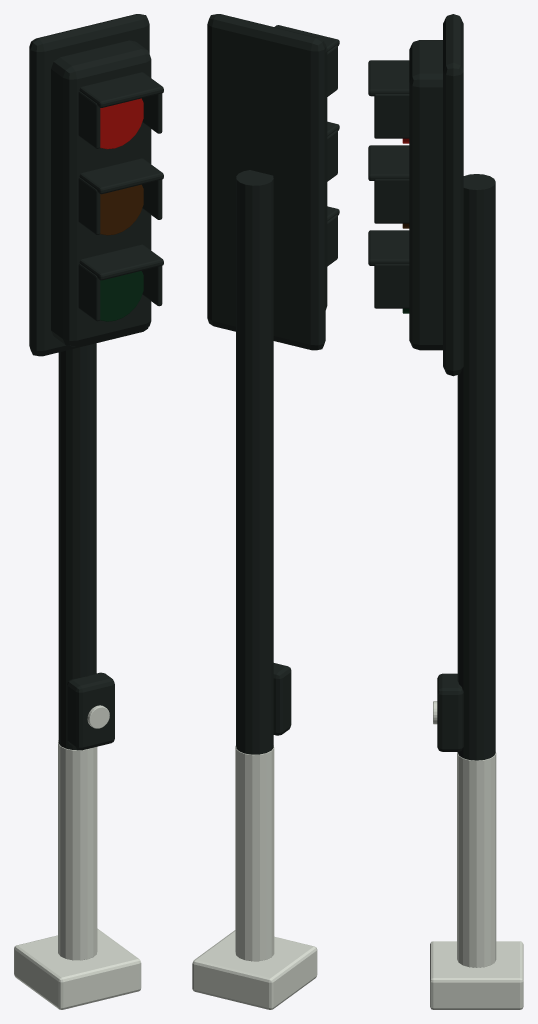
3 views of the same model, side by side, from view 1: azimuth 30°, elevation 25°; view 2: azimuth 150°, elevation 25°; view 3: azimuth 270°, elevation 25° (orthographic).
Parts seen in each view (by area): view 1: VEHICLE_Housing, POLE_Main, VEHICLE_Backplate, POLE_PaleLower, BASE_Footing, BUTTON_Housing, VEHICLE_VisorTop, VEHICLE_VisorTop.001, VEHICLE_VisorTop.002, VEHICLE_Lens_2, VEHICLE_Lens_1, VEHICLE_Lens_0 (+7 smaller); view 2: VEHICLE_Backplate, POLE_Main, POLE_PaleLower, BASE_Footing, BUTTON_Housing, VEHICLE_Housing, VEHICLE_VisorSide, VEHICLE_VisorSide.002, VEHICLE_VisorSide.004; view 3: POLE_Main, VEHICLE_Housing, POLE_PaleLower, VEHICLE_Backplate, BASE_Footing, BUTTON_Housing, VEHICLE_VisorSide.001, VEHICLE_VisorSide.003, VEHICLE_VisorSide.005, VEHICLE_VisorTop, VEHICLE_VisorTop.001, VEHICLE_VisorTop.002.
Boxes of the visible parts, left/top/right/bottom form: VEHICLE_Housing: left=51, top=40, right=151, bottom=346; POLE_Main: left=58, top=343, right=96, bottom=750; VEHICLE_Backplate: left=29, top=14, right=149, bottom=356; POLE_PaleLower: left=58, top=740, right=97, bottom=960; BASE_Footing: left=14, top=928, right=141, bottom=1009; BUTTON_Housing: left=67, top=672, right=114, bottom=750; VEHICLE_VisorTop: left=79, top=72, right=163, bottom=107; VEHICLE_VisorTop.001: left=79, top=158, right=163, bottom=194; VEHICLE_VisorTop.002: left=79, top=244, right=163, bottom=280; VEHICLE_Lens_2: left=100, top=271, right=143, bottom=321; VEHICLE_Lens_1: left=100, top=184, right=143, bottom=235; VEHICLE_Lens_0: left=100, top=98, right=143, bottom=149; VEHICLE_Backplate: left=207, top=14, right=325, bottom=350; POLE_Main: left=236, top=170, right=273, bottom=754; POLE_PaleLower: left=235, top=745, right=274, bottom=961; BASE_Footing: left=192, top=930, right=317, bottom=1009; BUTTON_Housing: left=273, top=663, right=291, bottom=735; VEHICLE_Housing: left=324, top=43, right=327, bottom=309; VEHICLE_VisorSide: left=327, top=45, right=337, bottom=96; VEHICLE_VisorSide.002: left=327, top=130, right=337, bottom=181; VEHICLE_VisorSide.004: left=327, top=215, right=337, bottom=266; POLE_Main: left=457, top=174, right=495, bottom=760; VEHICLE_Housing: left=409, top=40, right=442, bottom=350; POLE_PaleLower: left=457, top=752, right=496, bottom=967; VEHICLE_Backplate: left=443, top=14, right=463, bottom=376; BASE_Footing: left=430, top=941, right=523, bottom=1009; BUTTON_Housing: left=437, top=673, right=463, bottom=751; VEHICLE_VisorSide.001: left=374, top=94, right=409, bottom=138; VEHICLE_VisorSide.003: left=374, top=179, right=409, bottom=223; VEHICLE_VisorSide.005: left=374, top=264, right=409, bottom=308; VEHICLE_VisorTop: left=368, top=60, right=409, bottom=96; VEHICLE_VisorTop.001: left=368, top=145, right=409, bottom=180; VEHICLE_VisorTop.002: left=368, top=230, right=409, bottom=265.
Bounding box in the file's own units: 0.46 × 3.59 × 0.53.
